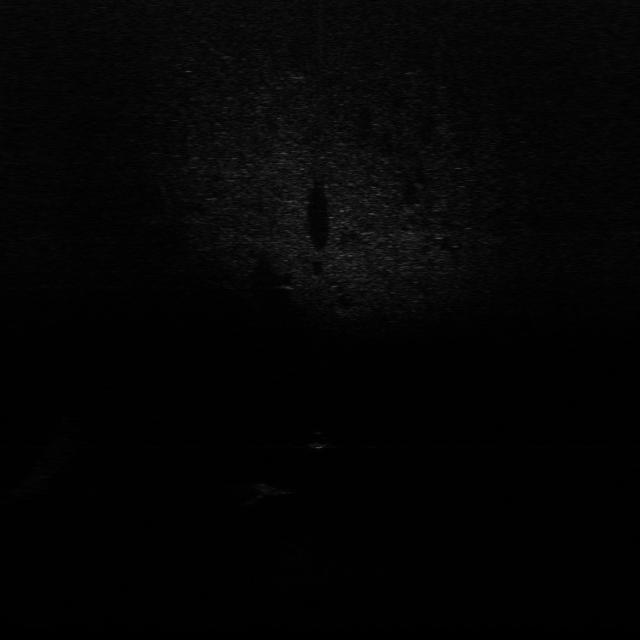ball: (304, 430, 334, 451)
square cage: (249, 481, 313, 499)
